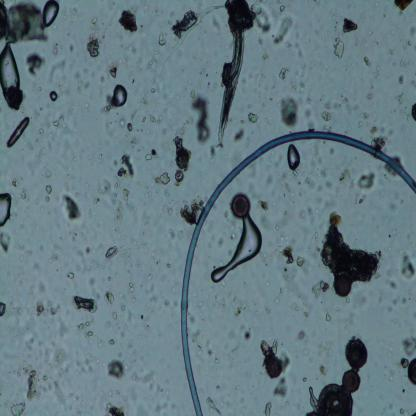Air bubble: (210, 216, 264, 286), (0, 44, 25, 110), (5, 117, 30, 148), (40, 1, 59, 31), (0, 191, 13, 228), (110, 84, 127, 109), (287, 144, 301, 171), (48, 89, 58, 104), (0, 300, 7, 318)
Background material: (322, 210, 384, 298), (0, 2, 48, 43), (172, 134, 194, 186), (306, 154, 333, 196), (191, 95, 213, 144), (171, 9, 200, 41), (60, 192, 86, 223), (278, 93, 300, 128), (249, 4, 272, 35), (118, 246, 143, 274), (126, 367, 156, 390), (273, 16, 295, 46), (25, 368, 43, 404), (72, 293, 99, 317), (179, 198, 202, 226), (115, 153, 137, 179), (399, 250, 416, 283), (117, 10, 139, 35), (106, 356, 128, 381), (24, 52, 44, 79), (137, 218, 154, 249), (45, 57, 66, 82), (225, 296, 248, 318), (330, 36, 348, 64), (353, 170, 379, 189), (309, 278, 331, 300), (271, 375, 290, 400), (338, 16, 360, 36), (258, 339, 278, 360), (280, 244, 296, 270), (73, 353, 93, 373), (400, 332, 416, 356), (51, 346, 67, 370), (86, 37, 102, 60), (106, 400, 129, 416), (204, 393, 220, 416), (95, 178, 110, 197), (292, 73, 307, 92), (102, 289, 116, 309), (165, 226, 180, 244), (124, 134, 139, 152), (35, 117, 47, 139), (186, 328, 202, 344), (320, 106, 335, 123), (104, 244, 118, 262), (0, 231, 12, 252), (371, 136, 387, 151), (340, 168, 354, 185), (392, 1, 415, 11), (258, 196, 270, 215), (10, 400, 26, 414), (90, 16, 101, 36), (277, 66, 289, 84), (307, 231, 319, 249), (262, 398, 274, 416), (44, 185, 54, 206), (247, 110, 260, 126), (296, 204, 308, 221), (50, 302, 61, 320), (146, 148, 160, 162), (382, 276, 397, 289), (156, 32, 168, 48), (232, 128, 245, 142), (18, 189, 30, 204), (282, 348, 290, 370), (160, 170, 171, 186), (50, 118, 61, 134), (36, 303, 47, 318), (260, 51, 269, 69), (24, 336, 35, 350), (96, 72, 107, 86), (209, 145, 218, 161), (46, 250, 58, 262), (294, 40, 303, 56), (399, 358, 411, 370), (121, 186, 132, 199), (21, 361, 34, 372), (73, 72, 83, 86), (126, 123, 137, 135), (151, 113, 161, 126), (66, 271, 77, 282), (120, 57, 131, 68), (75, 322, 90, 330), (82, 329, 94, 339), (316, 364, 328, 374), (296, 329, 306, 341), (109, 67, 119, 79), (395, 92, 405, 104), (295, 254, 304, 267), (370, 122, 378, 136), (374, 66, 382, 80), (91, 196, 101, 207), (81, 81, 91, 92), (230, 344, 239, 356), (187, 312, 196, 324), (25, 247, 35, 257), (111, 310, 121, 320), (42, 169, 52, 179), (322, 312, 332, 322), (162, 298, 171, 309), (278, 284, 289, 293), (188, 87, 197, 98), (129, 281, 136, 295), (52, 380, 60, 392), (40, 144, 48, 156), (340, 92, 348, 104), (40, 281, 46, 296), (205, 348, 214, 358), (399, 107, 408, 117), (278, 4, 287, 14), (242, 331, 250, 342), (364, 56, 372, 67), (67, 42, 75, 53), (148, 58, 156, 69), (403, 38, 410, 50), (398, 74, 406, 84), (380, 124, 388, 134), (144, 325, 152, 335), (198, 69, 208, 77), (51, 43, 58, 54), (74, 408, 83, 416), (107, 339, 116, 347), (11, 178, 18, 188), (368, 81, 375, 91), (309, 60, 316, 70), (409, 77, 416, 87), (116, 209, 121, 222), (389, 30, 397, 38), (147, 272, 154, 281), (85, 247, 92, 256), (114, 181, 121, 190), (64, 182, 70, 192), (274, 222, 280, 232), (119, 119, 126, 127), (69, 232, 76, 240), (103, 106, 110, 114), (387, 49, 394, 57), (15, 368, 21, 377), (400, 406, 406, 415), (140, 314, 145, 324), (85, 265, 93, 271), (41, 375, 47, 383), (362, 113, 370, 119), (400, 60, 408, 66), (366, 92, 372, 100), (98, 340, 102, 351), (357, 121, 363, 128), (197, 299, 202, 307), (140, 117, 146, 123), (115, 390, 120, 397), (168, 262, 172, 270), (304, 312, 309, 318), (214, 358, 219, 363), (122, 306, 126, 312), (107, 277, 112, 281), (332, 15, 335, 21), (208, 81, 211, 87)
Cellulose filter fibre: (128, 3, 226, 121), (219, 18, 245, 149)
Diatom: (316, 382, 356, 413), (346, 338, 369, 370), (230, 192, 252, 221), (340, 369, 362, 392), (266, 358, 283, 380), (407, 358, 416, 388), (409, 100, 416, 123)
Microfibre: (180, 131, 416, 415)
